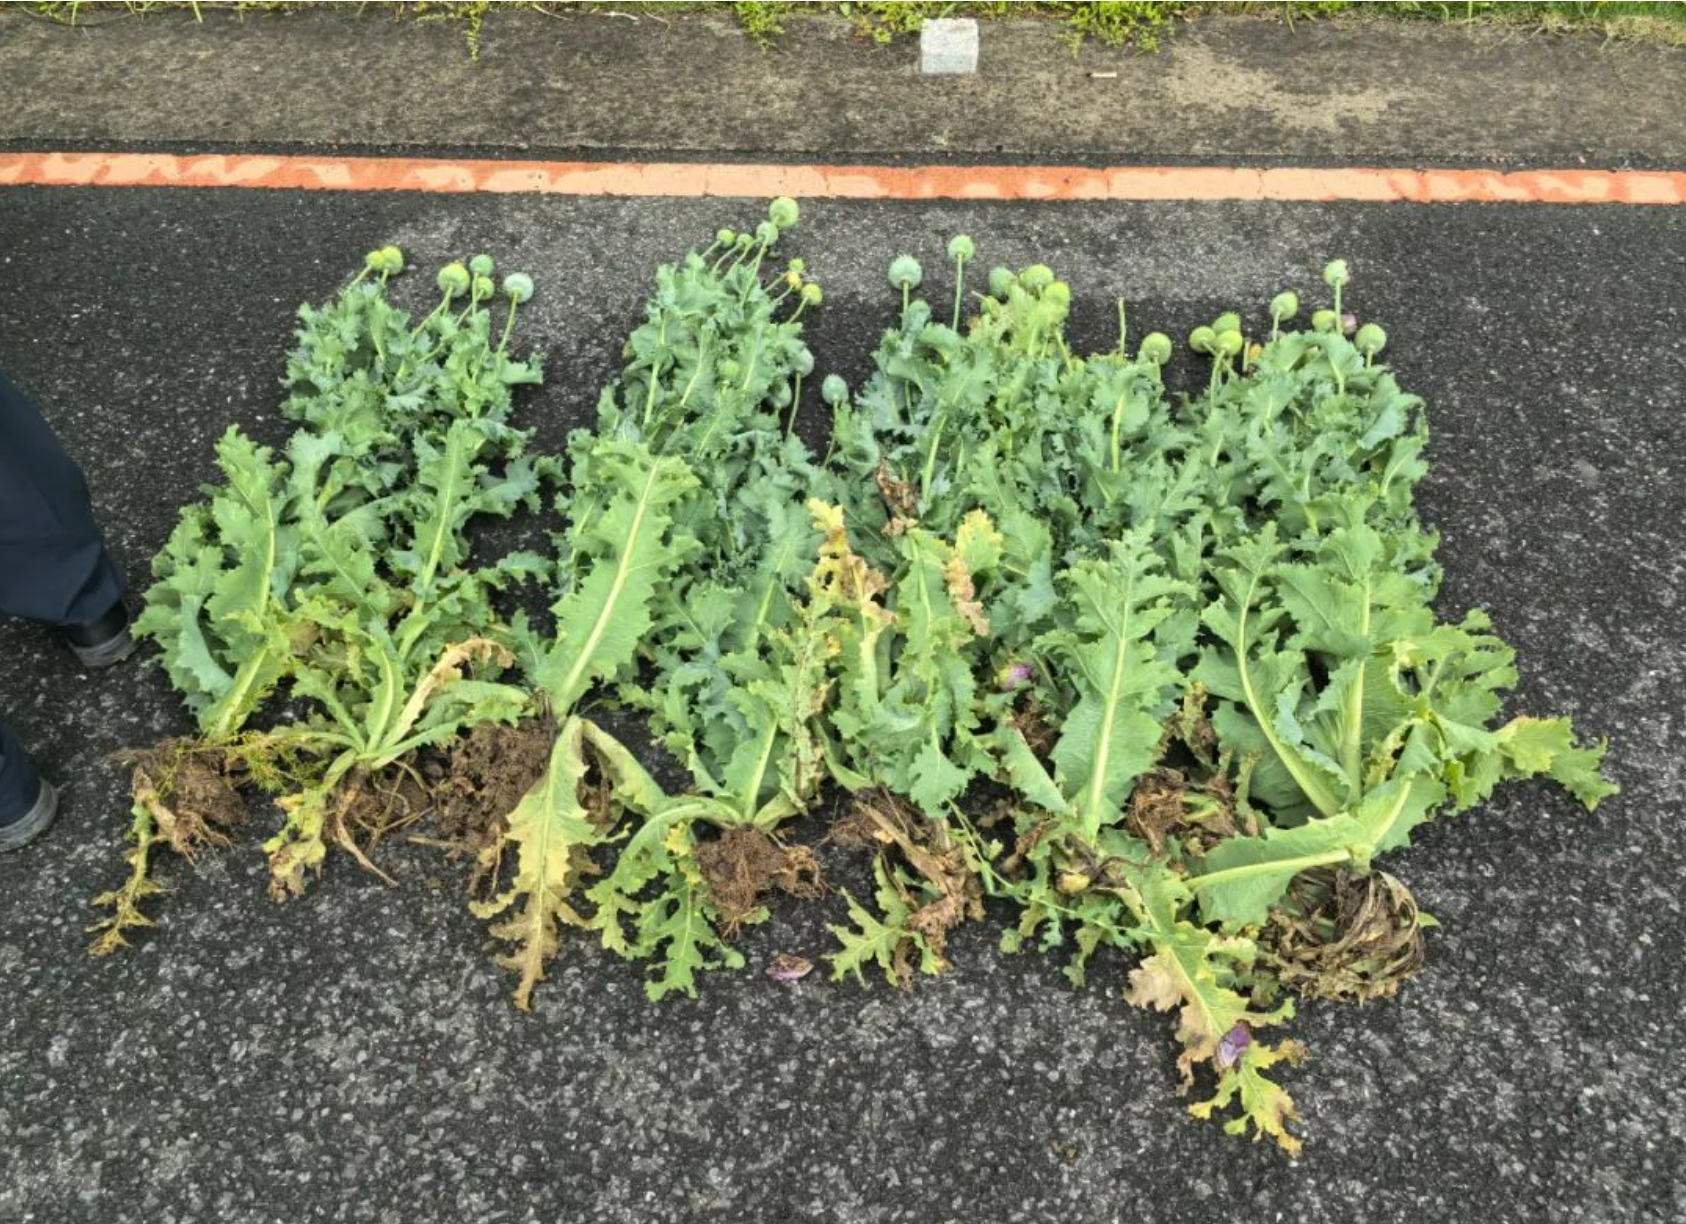Poppy: (92, 152, 1624, 1081)
